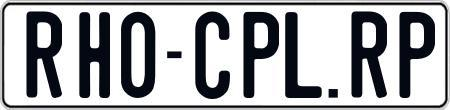0: (120, 11, 154, 100)
C: (193, 11, 232, 104)
H: (78, 10, 109, 96)
L: (285, 11, 326, 100)
P: (244, 11, 280, 101), (399, 10, 433, 98)
R: (24, 10, 62, 98), (351, 9, 388, 99)
